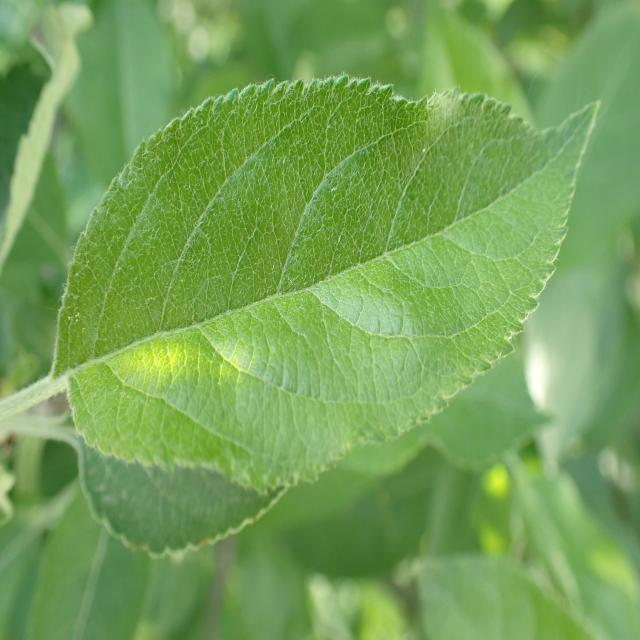healthy: (52, 74, 605, 560)
